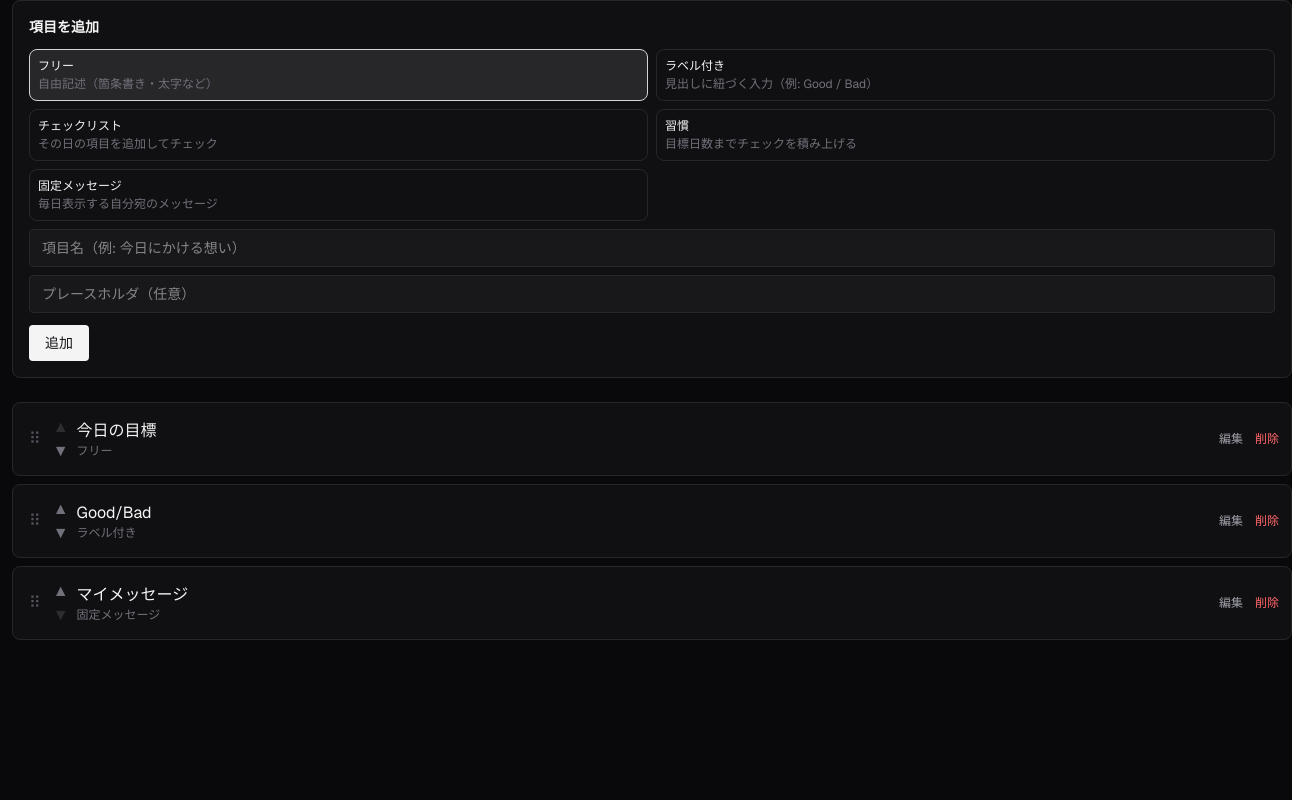
ComponentManager（追加） › 追加に失敗したらエラーを表示し、再描画しない
The width and height of the screenshot is (1292, 800).
Click the button "追加". click: (59, 343)
box: [29,325,89,361]
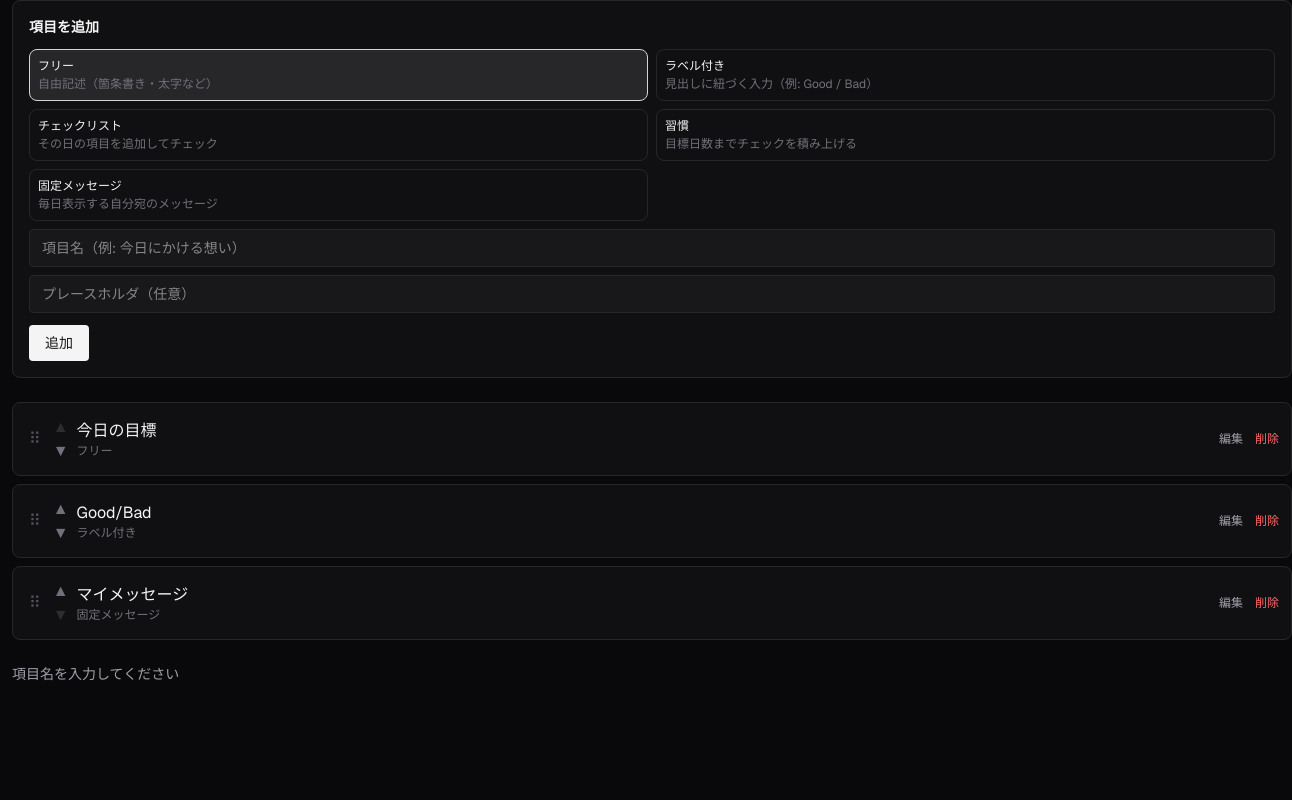
Now the text "項目名を入力してください" is shown, box [12,665,179,683]
